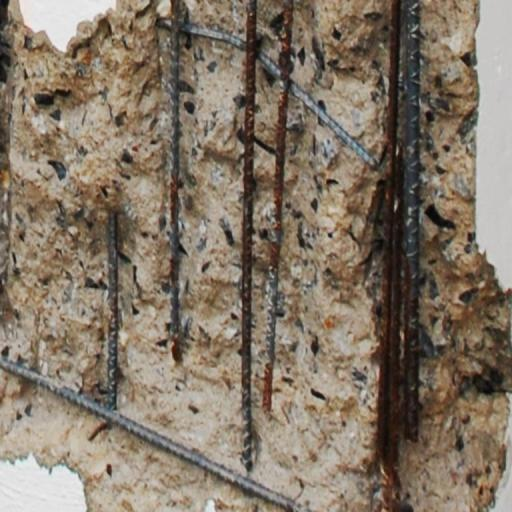spalling: (4, 2, 512, 512)
